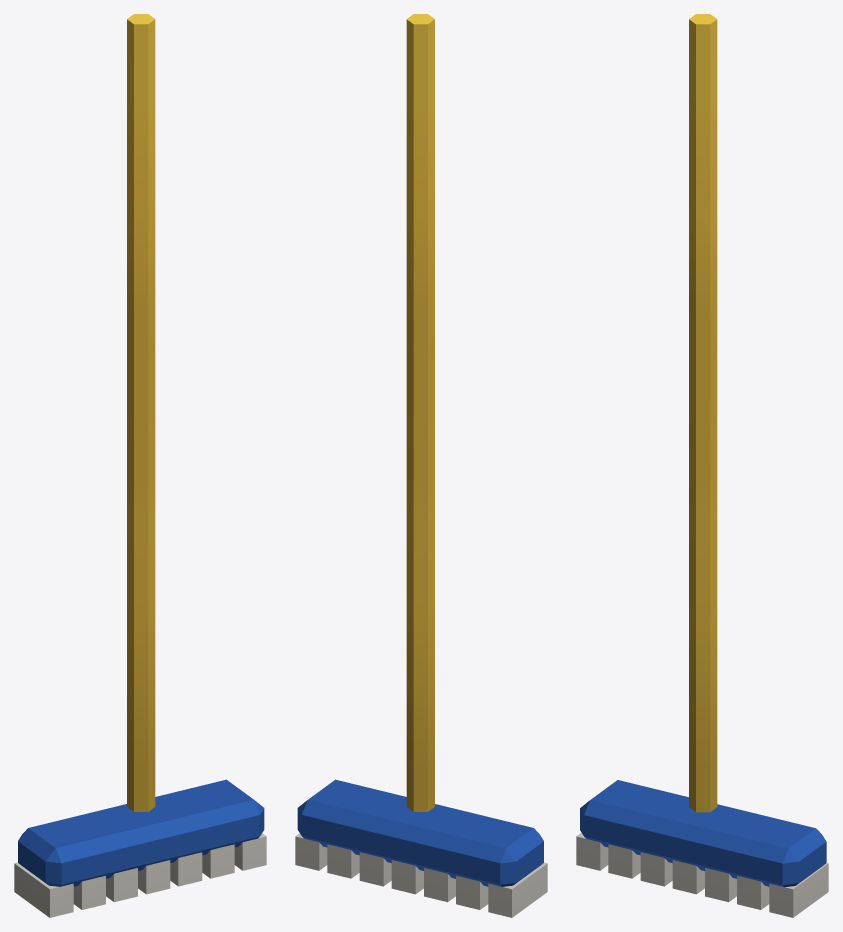
The model's file is Esfregao.fbx.
3 renders of one model, left to right at view 1: azimuth 30°, elevation 25°; view 2: azimuth 150°, elevation 25°; view 3: azimuth 330°, elevation 25°, orthographic.
Visible parts, largest first — view 1: Esfregao_Malha; view 2: Esfregao_Malha; view 3: Esfregao_Malha.
Part boxes in pixels (x1,y1,x2,y2): Esfregao_Malha: [14, 14, 266, 917]; Esfregao_Malha: [295, 14, 547, 917]; Esfregao_Malha: [576, 14, 828, 917].
Size of the model in its own units: 0.32 by 1.2 by 0.1.
